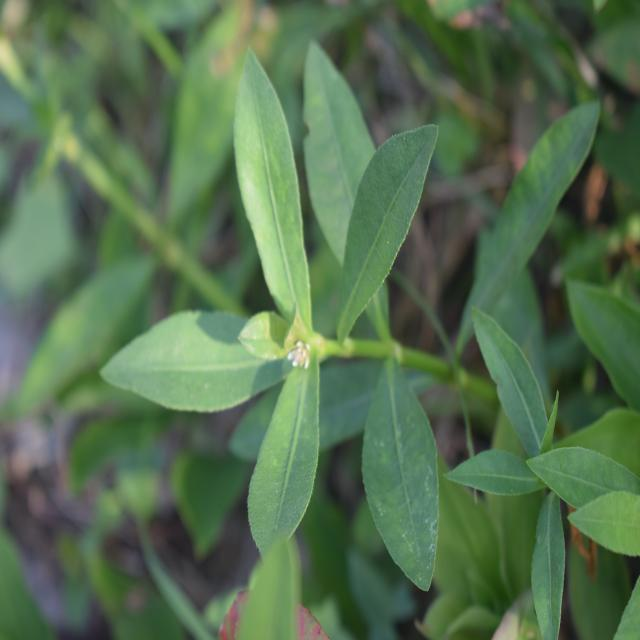Alligatorweed: (127, 80, 470, 556)
